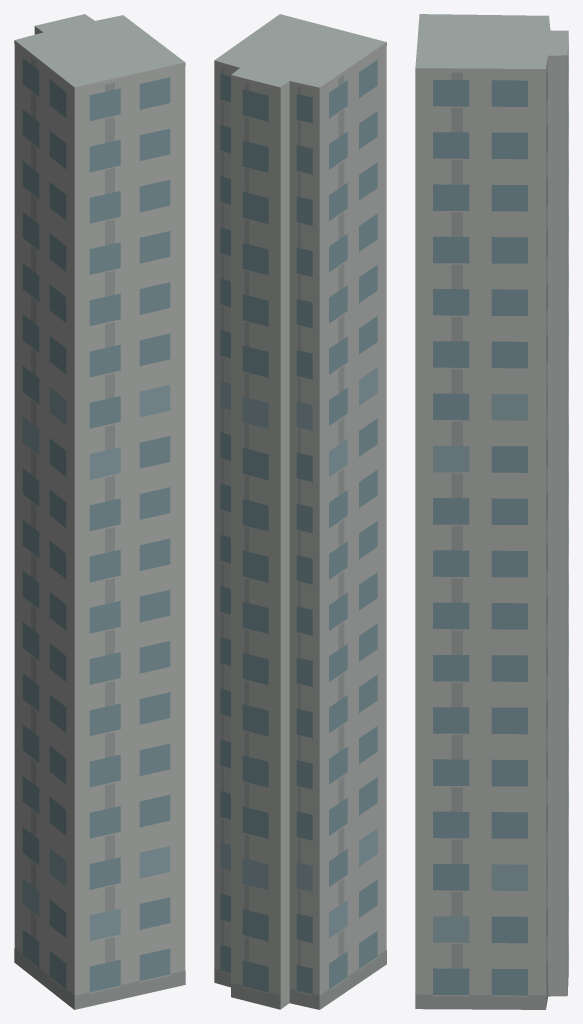
Rendered from survey-upis-32839059.glb.
3 renders of one model, left to right at view 1: azimuth 30°, elevation 25°; view 2: azimuth 150°, elevation 25°; view 3: azimuth 270°, elevation 25°, orthographic. The views are drawn at different scales.
Visible parts, largest first — view 1: survey-upis-32839059.tmp; view 2: survey-upis-32839059.tmp; view 3: survey-upis-32839059.tmp.
Boxes of the visible parts, left/top/right/bottom form: survey-upis-32839059.tmp: left=14, top=14, right=185, bottom=1009; survey-upis-32839059.tmp: left=214, top=14, right=386, bottom=1009; survey-upis-32839059.tmp: left=415, top=14, right=568, bottom=1009.
Bounding box in the file's own units: 6.9 × 54.9 × 8.12.
